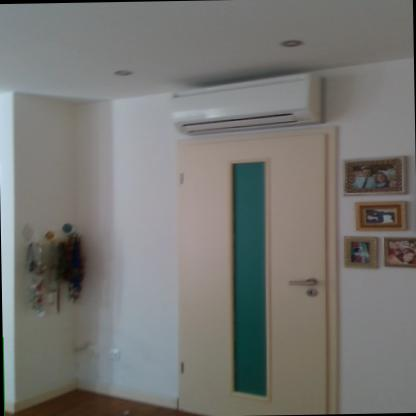closed: (169, 135, 341, 416)
